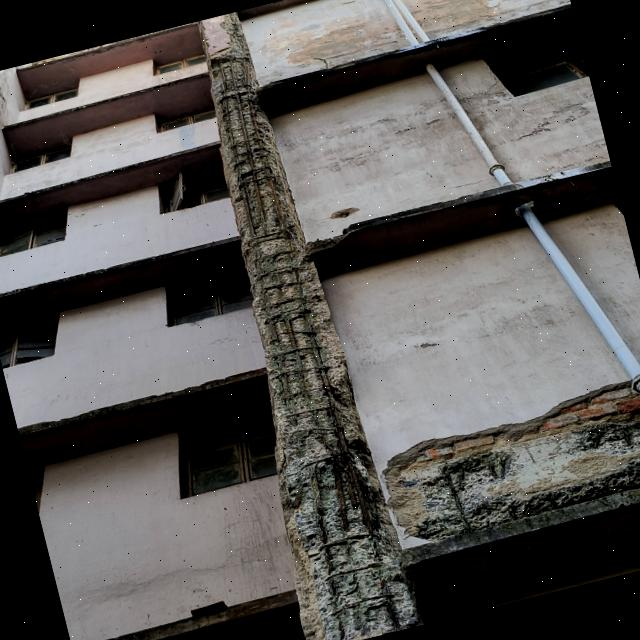spalling: (199, 11, 421, 640), (383, 381, 640, 543)
